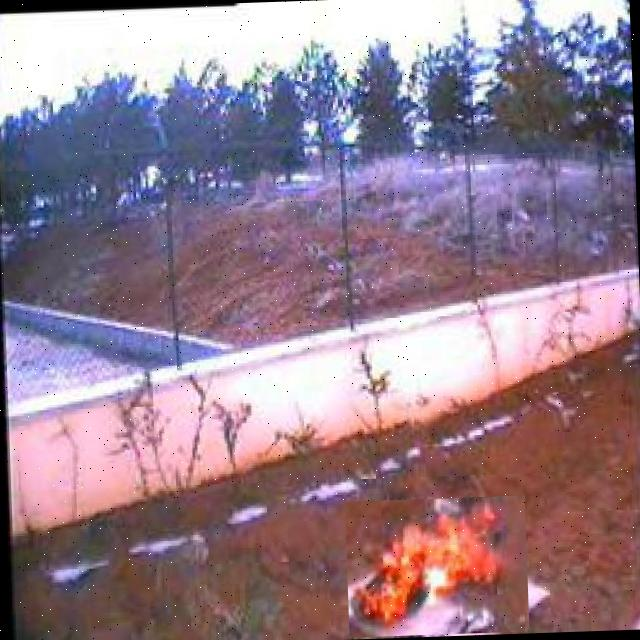fire: (344, 495, 529, 637)
